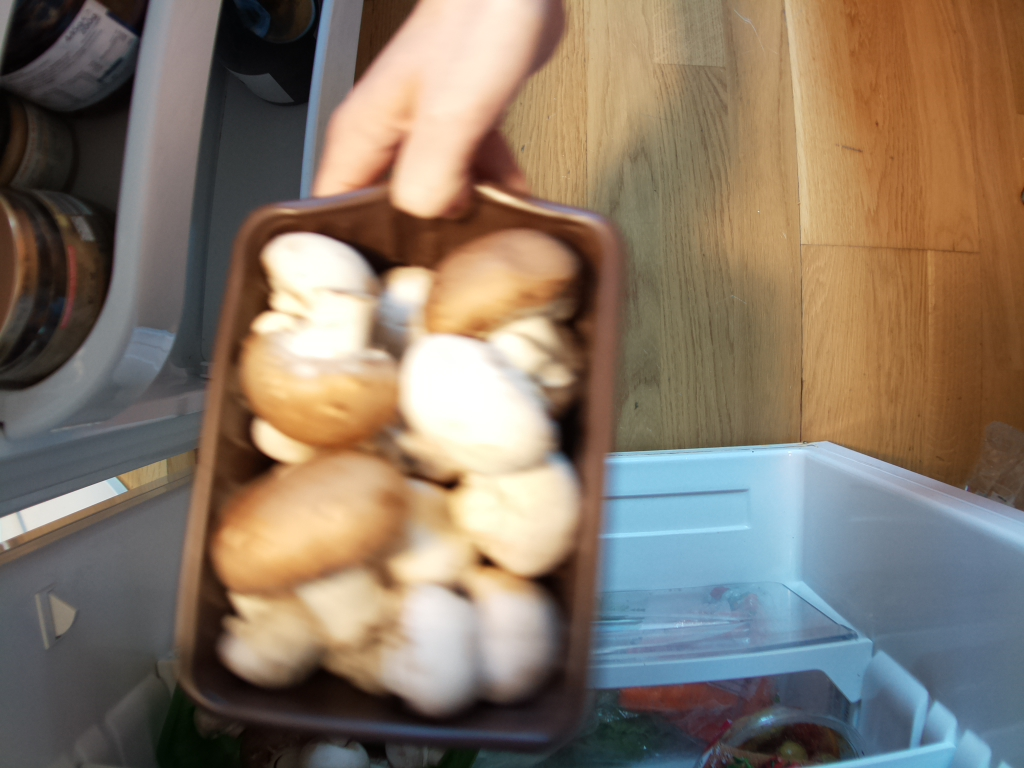mushrooms: (197, 207, 592, 728)
